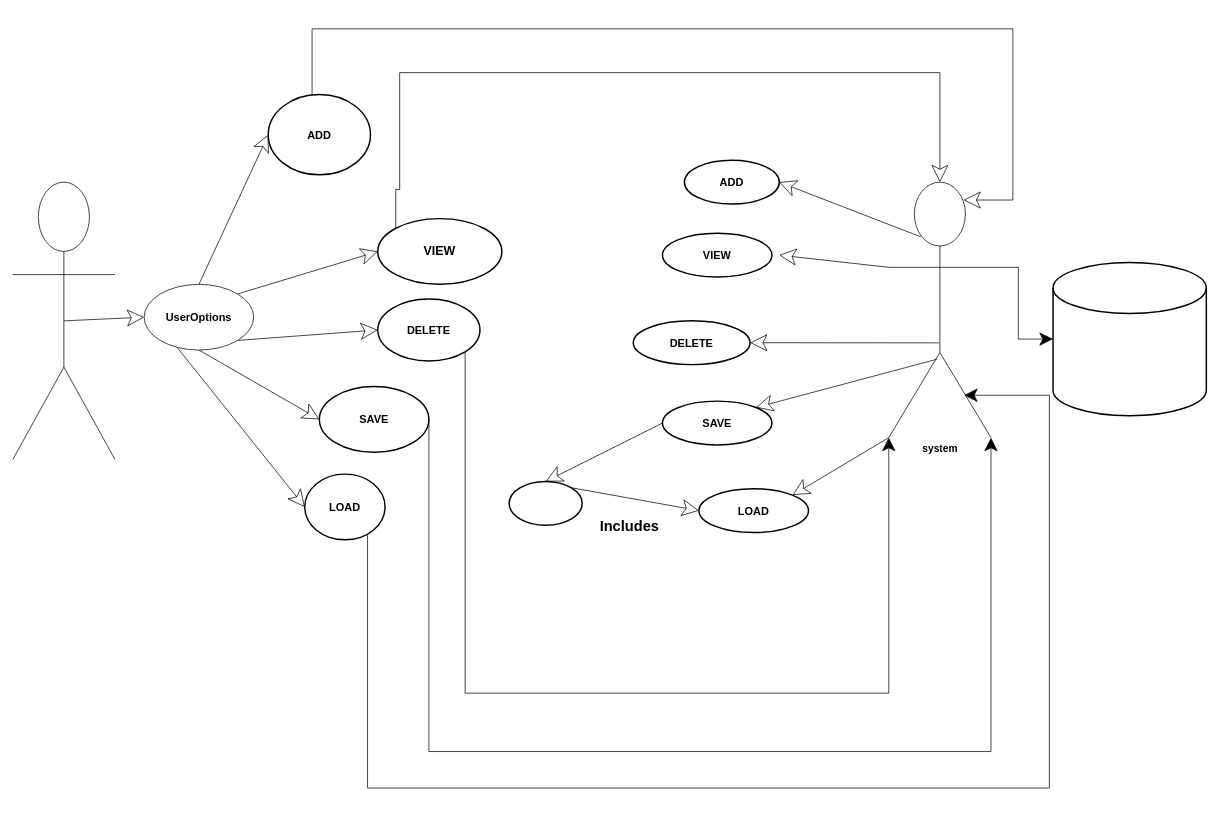
The diagram is 1220 pixels wide and 814 high, and some of its shapes have lost their labels. Each missing label, with the box of its shape:
ArrayList: (1052, 261, 1207, 416)
CSV File: (508, 480, 583, 526)
user: (12, 181, 115, 460)
